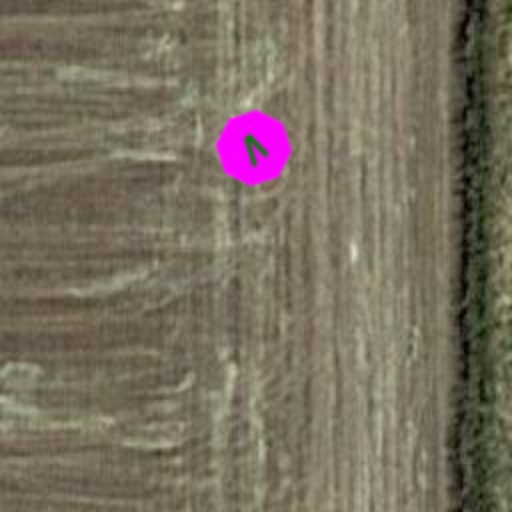octagon: (198, 92, 310, 204)
